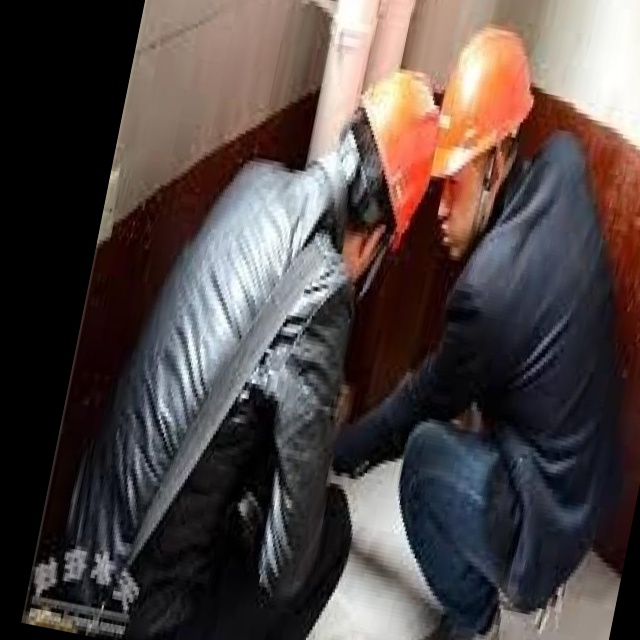Con_Casco: (414, 19, 547, 264)
